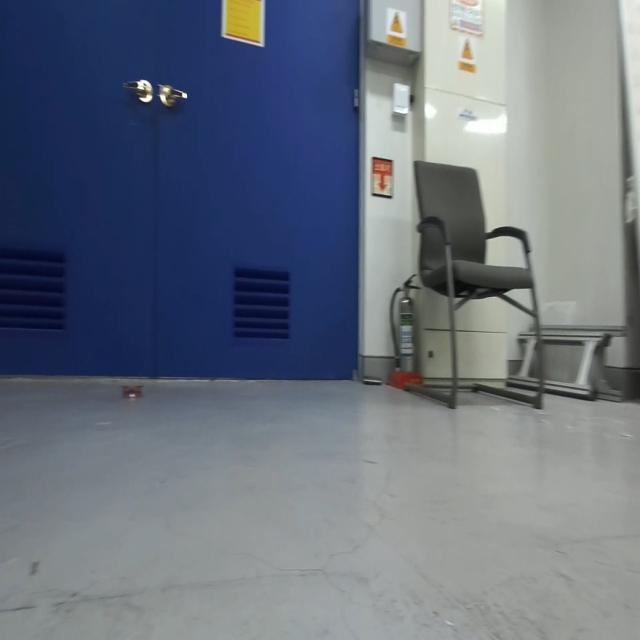crazyflie: (118, 382, 145, 402)
